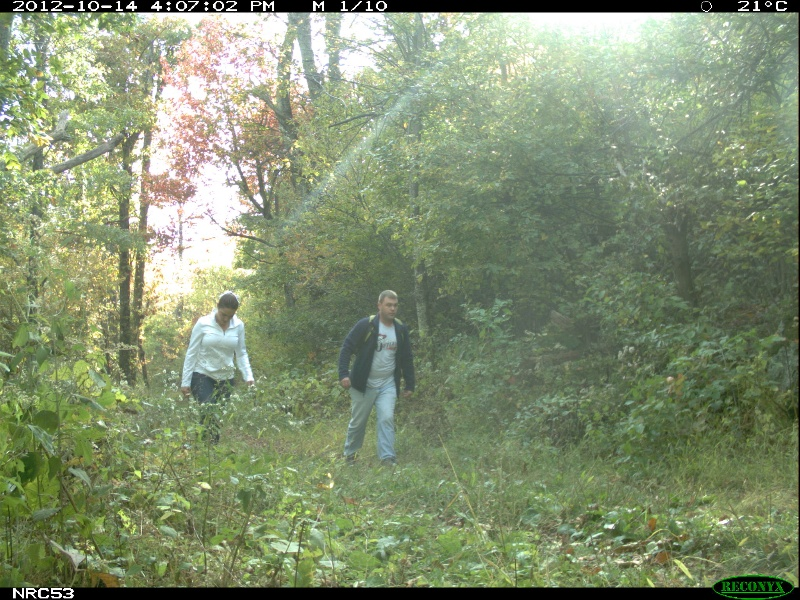human: (328, 286, 420, 473), (177, 293, 259, 456)
human face: (379, 294, 400, 323), (219, 301, 233, 328)
human legs: (338, 378, 406, 471), (194, 369, 240, 456)
